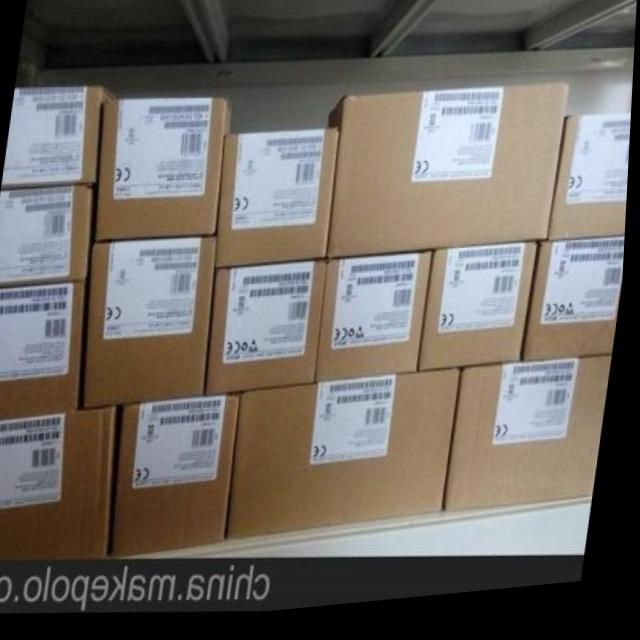box: (329, 91, 571, 265), (233, 377, 464, 543), (449, 367, 616, 520), (88, 240, 219, 409), (116, 398, 245, 559), (97, 103, 233, 242), (0, 407, 119, 560), (217, 134, 341, 271), (209, 265, 330, 399), (318, 260, 435, 390), (422, 253, 539, 379), (526, 249, 628, 371), (0, 283, 89, 420), (4, 88, 118, 190), (550, 126, 633, 252), (0, 186, 93, 287)
